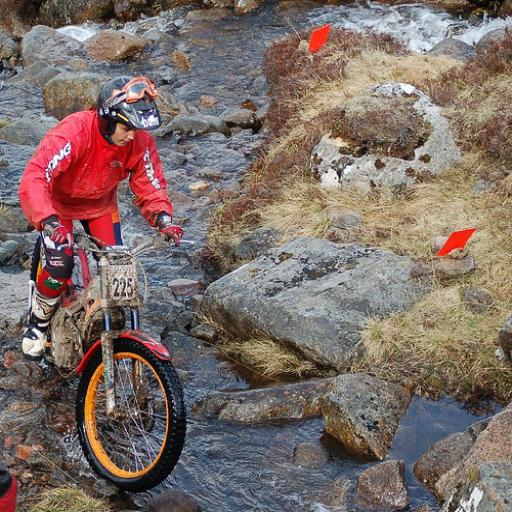person: (18, 74, 187, 362)
vehicle: (24, 226, 196, 493)
